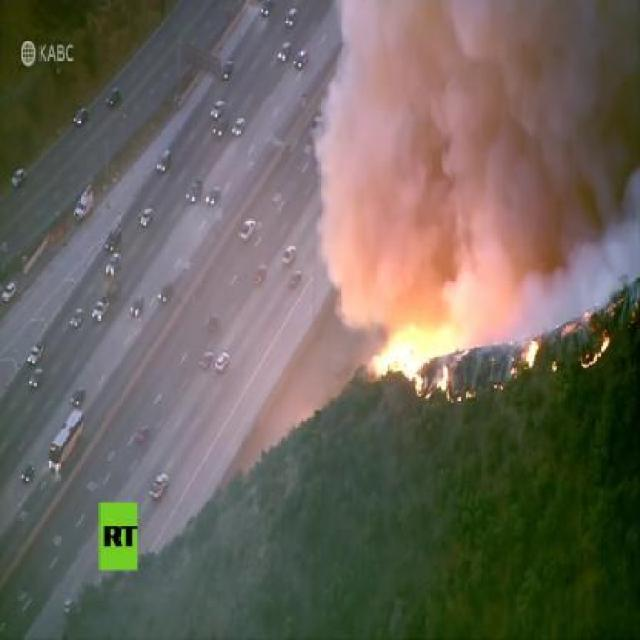Fire: (378, 322, 454, 408), (580, 336, 611, 370), (511, 340, 538, 378), (462, 388, 475, 398)
